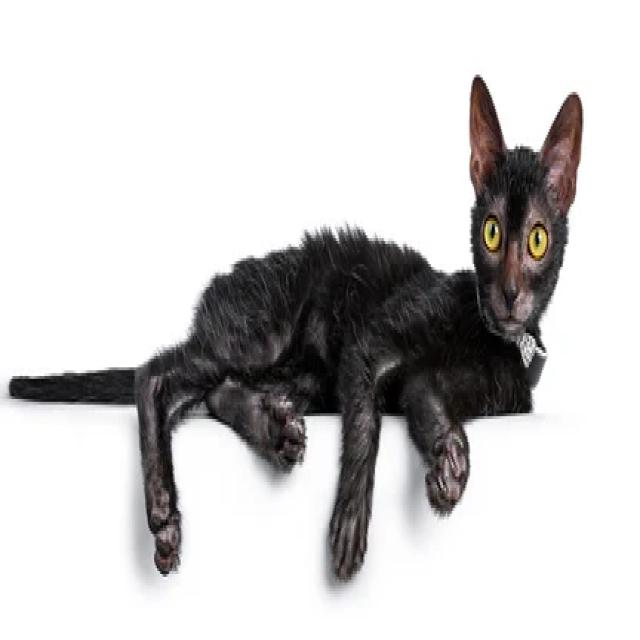Lykoi: (4, 57, 588, 589)
